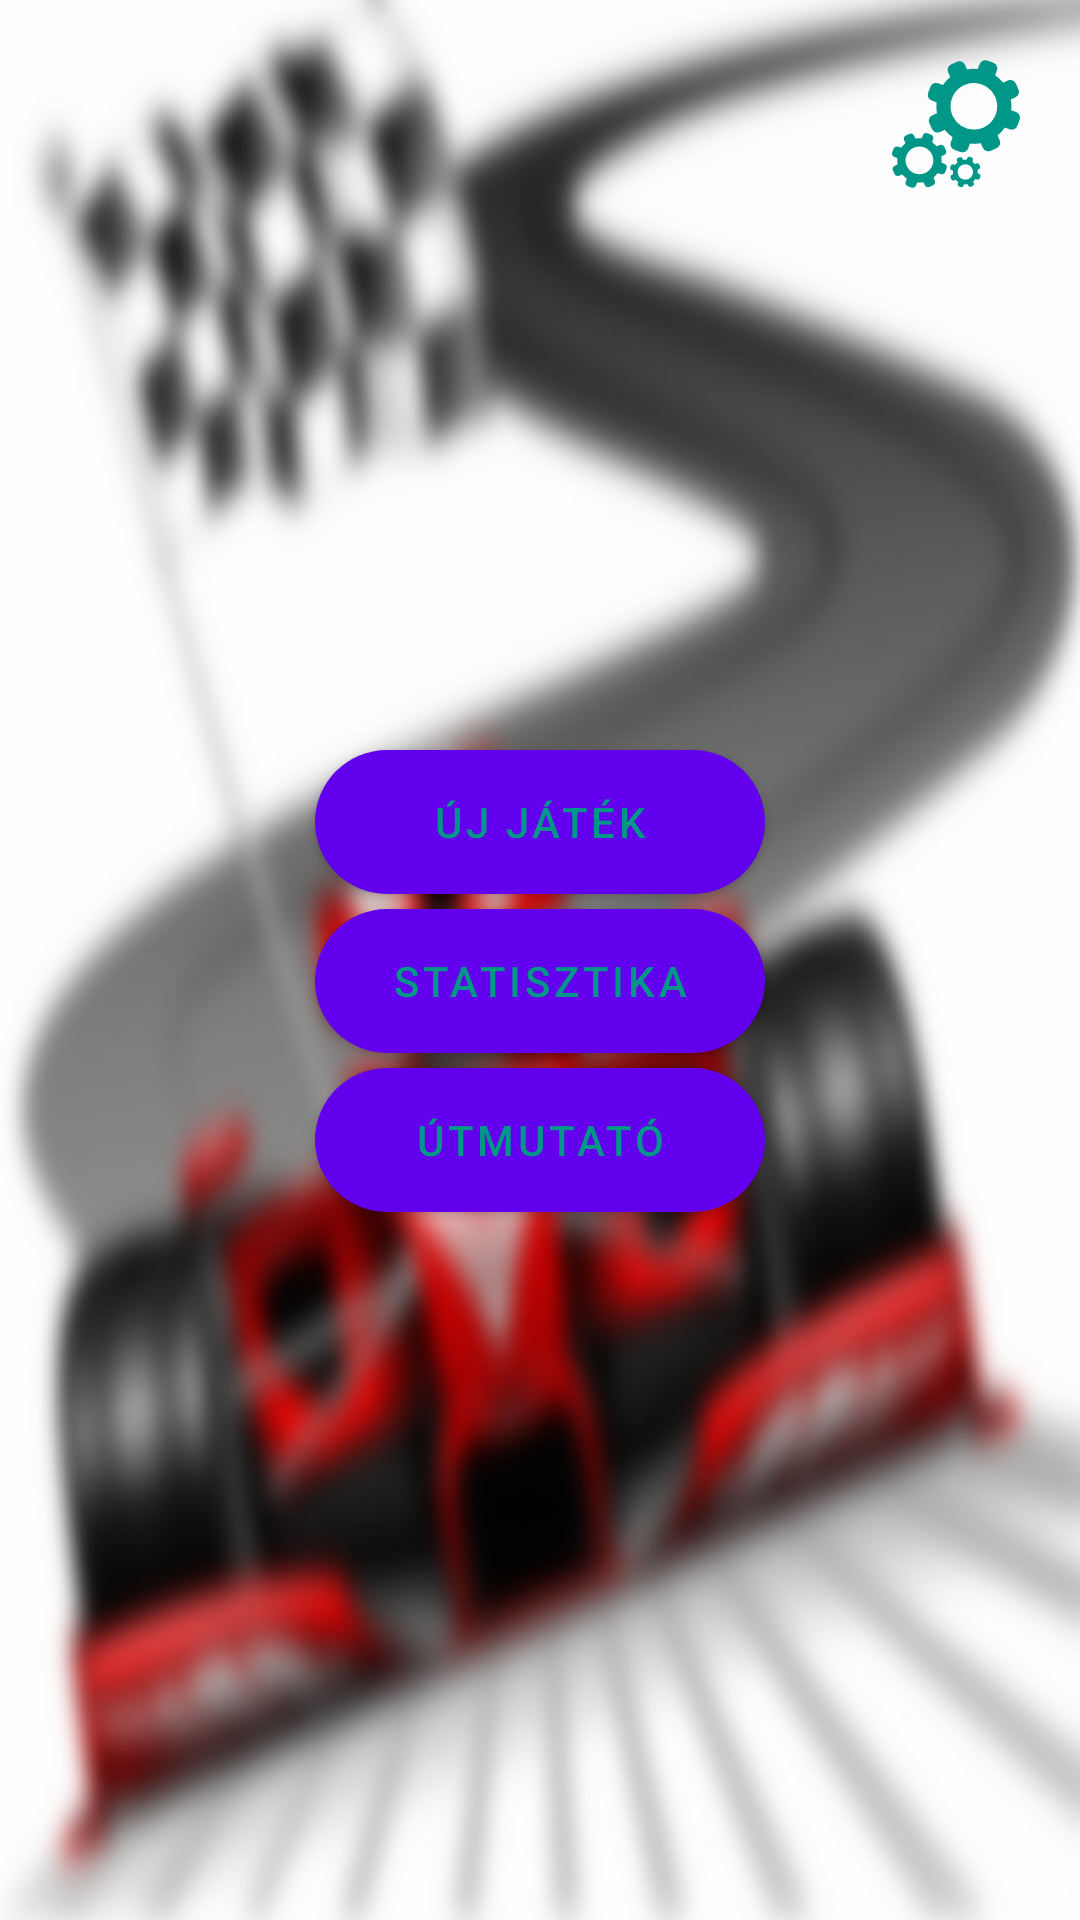

Where icons sit on this 1080px x 1920px app screen, as (x1, y1, x2, y2):
settings: (892, 60, 1020, 188)
